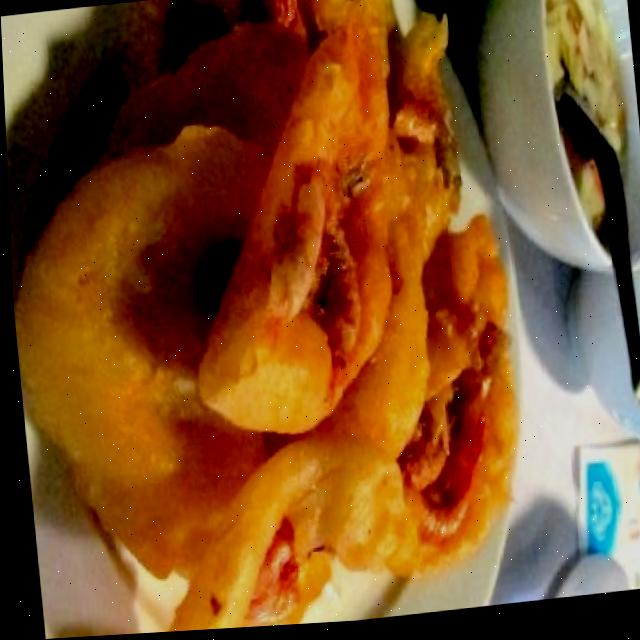炸货点心: (6, 0, 549, 640)
熟制海鲜: (6, 0, 549, 640)
